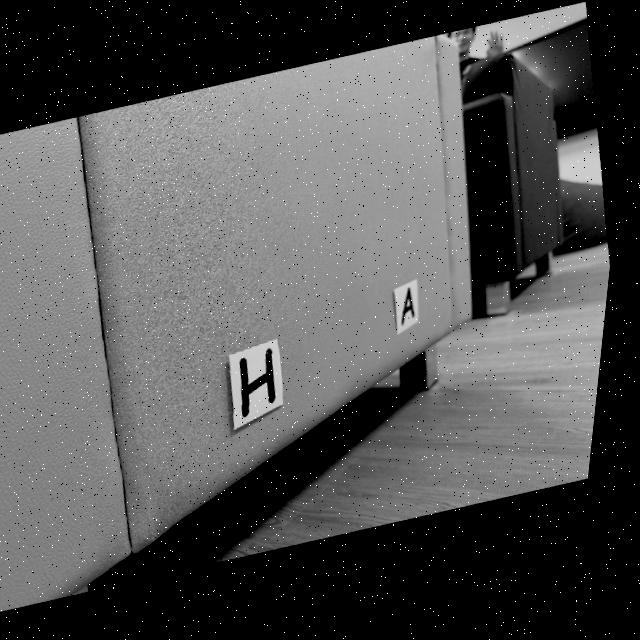A: (409, 291, 423, 328)
H: (248, 351, 285, 419)
